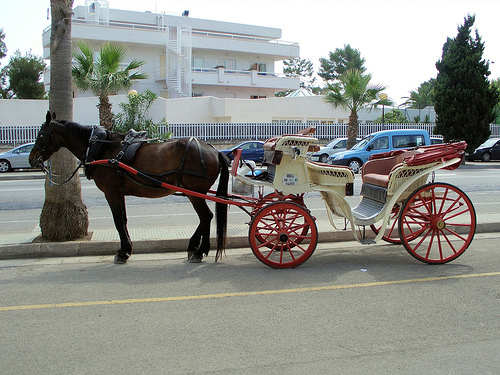horse: (28, 112, 237, 265)
